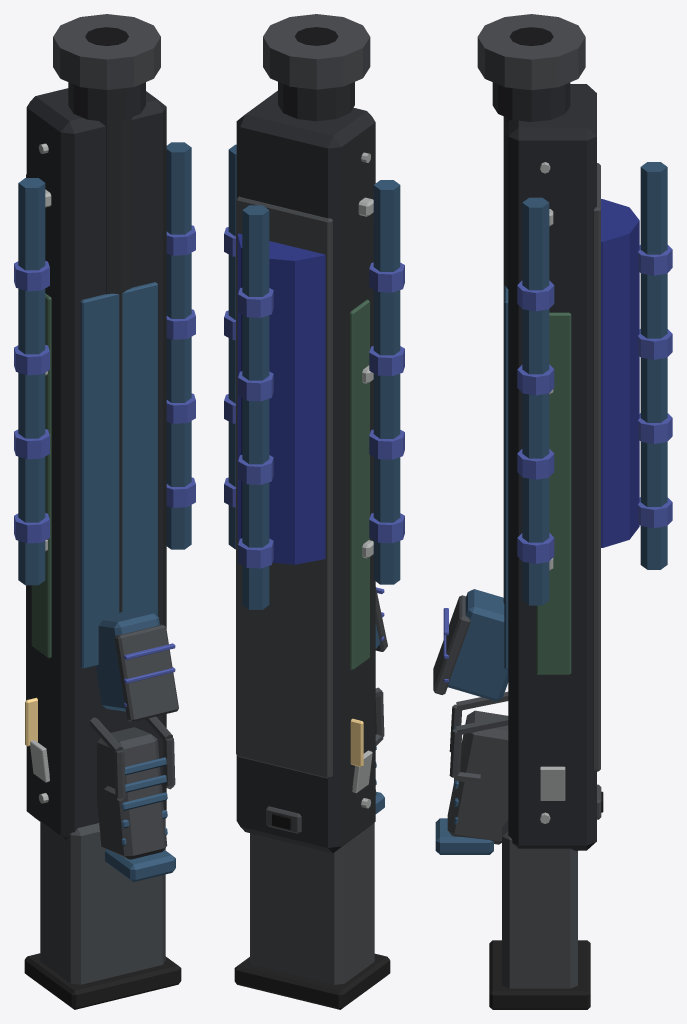
The model's file is weapon_plasma_rifle.fbx.
3 renders of one model, left to right at view 1: azimuth 30°, elevation 25°; view 2: azimuth 150°, elevation 25°; view 3: azimuth 270°, elevation 25°, orthographic.
Visible parts, largest first — view 1: weapon_plasma_rifle; view 2: weapon_plasma_rifle; view 3: weapon_plasma_rifle.
Part boxes in pixels (box(x1,y1,x2,y2)): weapon_plasma_rifle: box(14, 14, 195, 1009); weapon_plasma_rifle: box(224, 14, 404, 1009); weapon_plasma_rifle: box(433, 14, 672, 1009).
Size of the model in its own units: 0.244 by 1.24 by 0.2834.
